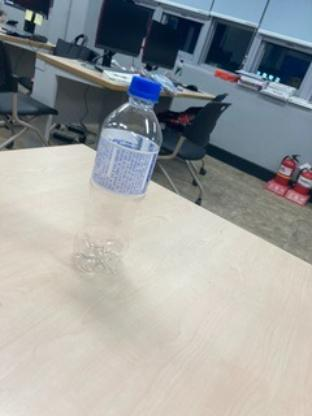Plastic Bottle: (72, 70, 164, 288)
